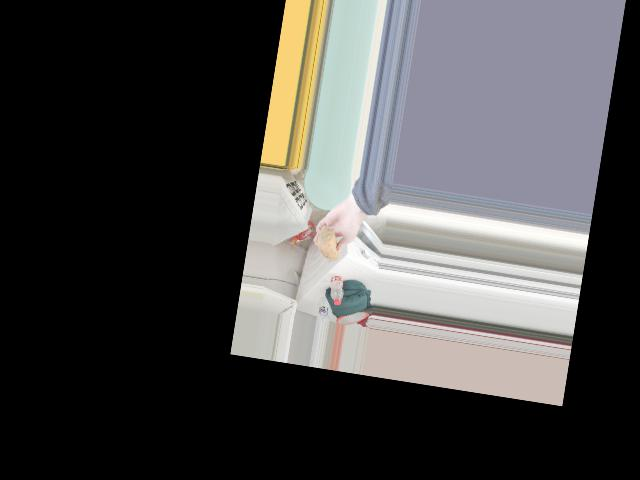sweet_potato: (315, 229, 341, 261)
